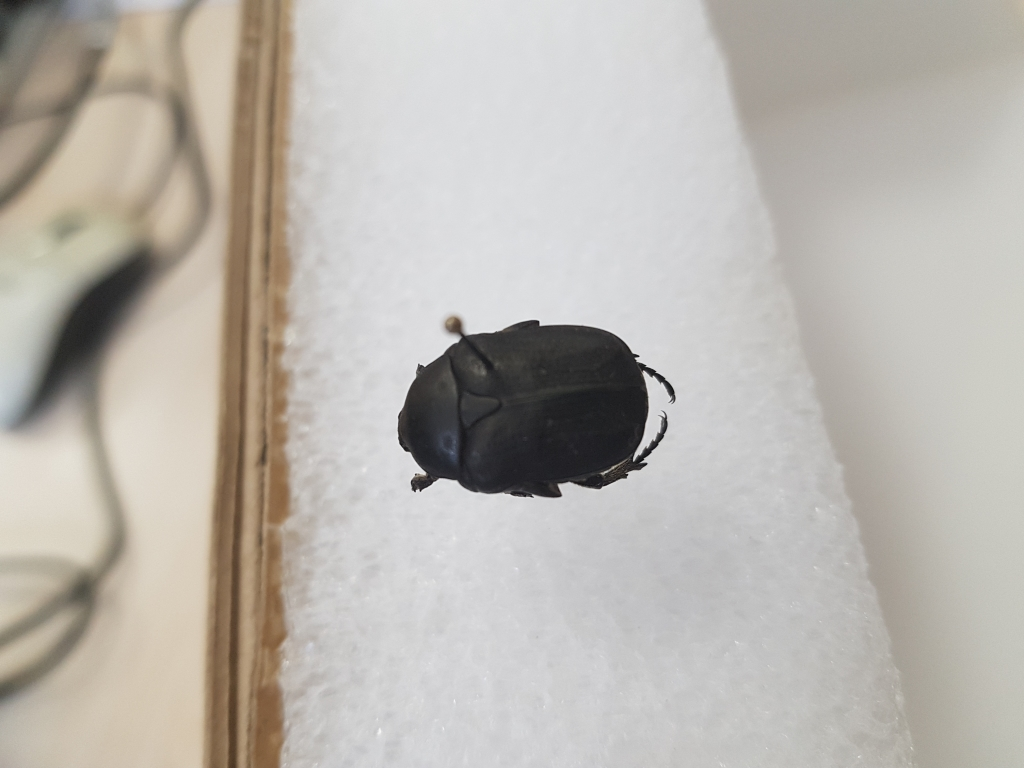Protaetia_asiatica: (381, 312, 679, 518)
